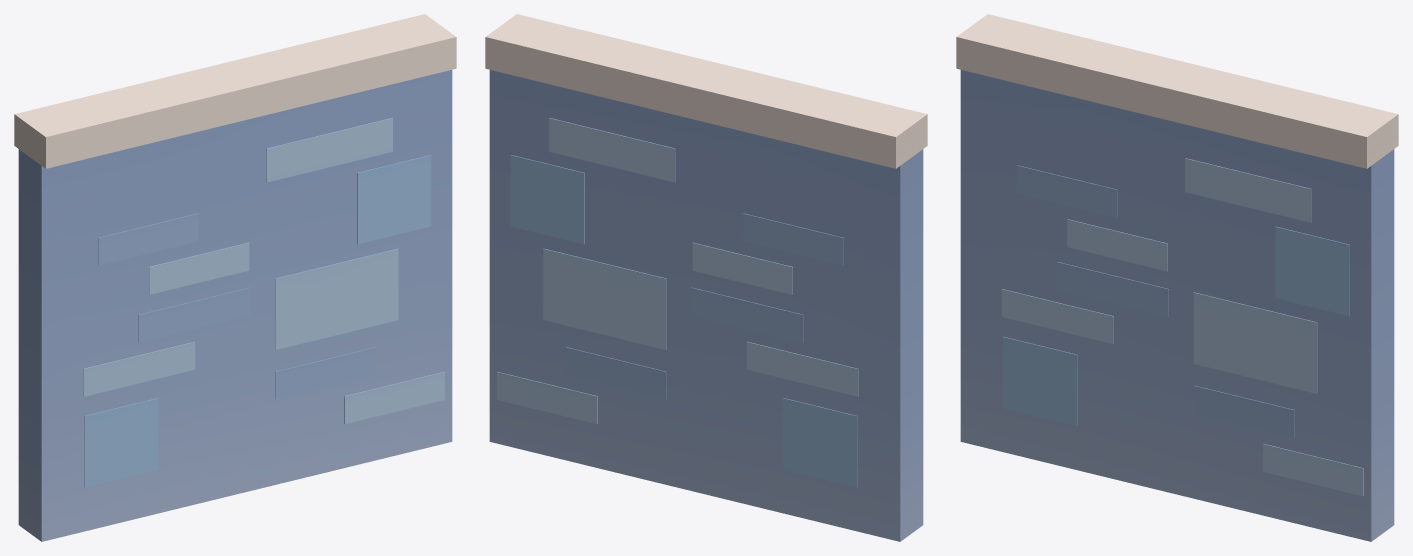
The model's file is M1_Wall_05_2.fbx.
3 renders of one model, left to right at view 1: azimuth 30°, elevation 25°; view 2: azimuth 150°, elevation 25°; view 3: azimuth 330°, elevation 25°, orthographic.
Visible parts, largest first — view 1: M1_Wall_05_2; view 2: M1_Wall_05_2; view 3: M1_Wall_05_2.
Boxes of the visible parts, box(x1,y1,x2,y2) form: M1_Wall_05_2: box(14, 14, 456, 541); M1_Wall_05_2: box(485, 14, 927, 541); M1_Wall_05_2: box(956, 14, 1398, 541).
Size of the model in its own units: 400 by 380 by 52.99.
